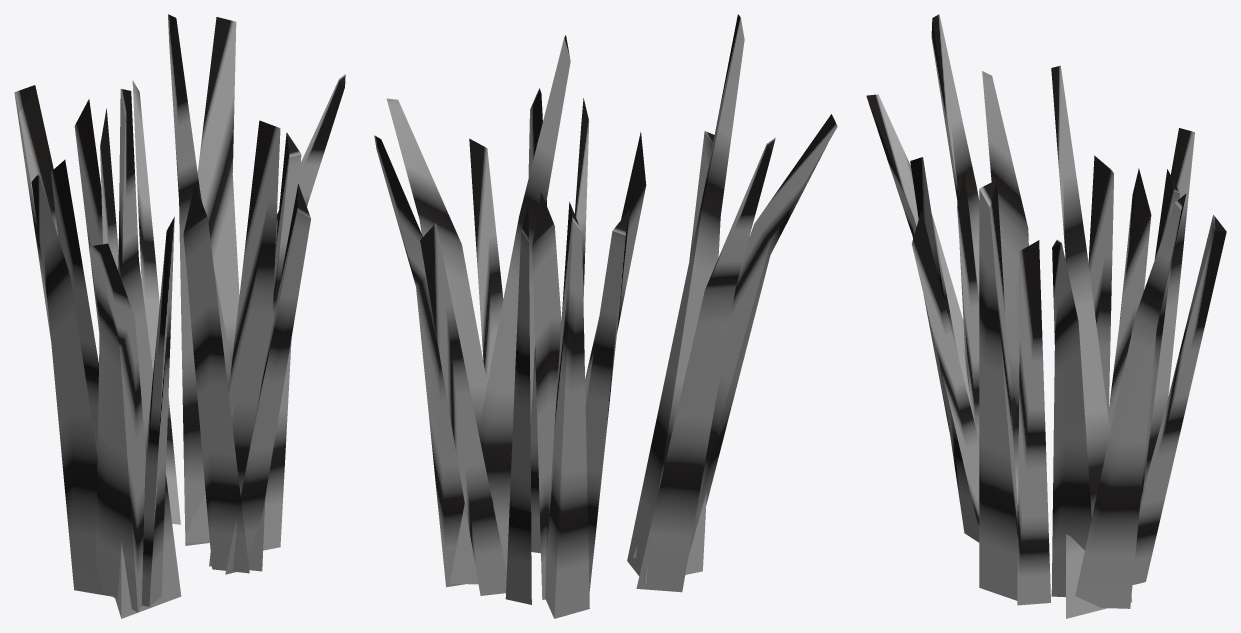
File: SM_Gen_Env_Grass_Tall_01.glb
3 views of the same model, side by side, from view 1: azimuth 30°, elevation 25°; view 2: azimuth 150°, elevation 25°; view 3: azimuth 270°, elevation 25° (orthographic). The views are drawn at different scales.
Parts seen in each view (by area): view 1: SM_Gen_Env_Grass_Tall_01; view 2: SM_Gen_Env_Grass_Tall_01; view 3: SM_Gen_Env_Grass_Tall_01.
Boxes of the visible parts, x1=… form: SM_Gen_Env_Grass_Tall_01: x1=14, y1=14, x2=345, y2=618; SM_Gen_Env_Grass_Tall_01: x1=374, y1=14, x2=837, y2=618; SM_Gen_Env_Grass_Tall_01: x1=866, y1=14, x2=1226, y2=618.
Bounding box in the file's own units: 1 × 1.48 × 0.9464.
1 material, 1 textured.
